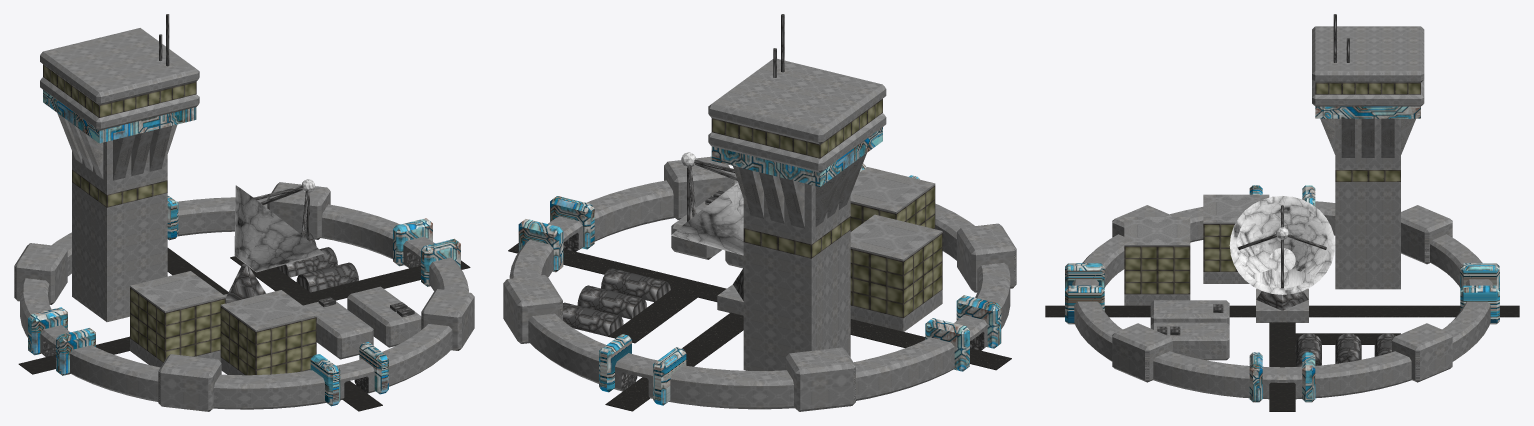
Rendered from CommandCenter.fbx.
The picture shows the model from 3 angles, left to right: view 1: azimuth 30°, elevation 25°; view 2: azimuth 150°, elevation 25°; view 3: azimuth 270°, elevation 25°; orthographic projection. The views are drawn at different scales.
Visible parts, largest first — view 1: outer-wall, tower.005, tower-windows.001, tower.001, tower.003, sat-dish, crenelation.003, tower.004, road.001, tower.002, building-roof.001, building-roof (+25 smaller); view 2: outer-wall, tower.005, tower-windows.001, tower.003, road.001, crenelation.002, sat-dish, crenelation.003, building-roof.001, crenelation, tower-windows.002, tower-stripe (+24 smaller); view 3: outer-wall, sat-dish, tower.005, tower-windows.001, road, tower.001, crenelation, crenelation.001, tower.004, crenelation.002, road.001, building-roof (+25 smaller).
Boxes of the visible parts, <box> form: outer-wall: <box>20,197,468,409</box>; tower.005: <box>72,182,167,321</box>; tower-windows.001: <box>40,28,199,105</box>; tower.001: <box>220,306,316,375</box>; tower.003: <box>130,287,225,362</box>; sat-dish: <box>234,185,323,272</box>; crenelation.003: <box>158,354,221,411</box>; tower.004: <box>347,286,421,347</box>; road.001: <box>18,260,470,374</box>; tower.002: <box>303,301,373,359</box>; building-roof.001: <box>130,271,225,312</box>; building-roof: <box>220,290,316,331</box>; outer-wall: <box>509,173,1010,409</box>; tower.005: <box>743,230,850,370</box>; tower-windows.001: <box>708,58,886,144</box>; tower.003: <box>850,233,942,318</box>; road.001: <box>508,243,1011,370</box>; crenelation.002: <box>785,347,855,411</box>; sat-dish: <box>671,182,743,255</box>; crenelation.003: <box>957,223,1016,292</box>; building-roof.001: <box>850,214,942,261</box>; crenelation: <box>503,275,562,343</box>; tower-windows.002: <box>708,113,886,172</box>; tower-stripe: <box>711,127,882,186</box>; outer-wall: <box>1072,201,1492,399</box>; sat-dish: <box>1229,196,1335,294</box>; tower.005: <box>1335,182,1400,289</box>; tower-windows.001: <box>1312,26,1424,82</box>; road: <box>1045,305,1519,317</box>; tower.001: <box>1124,246,1190,294</box>; crenelation: <box>1392,323,1452,382</box>; crenelation.001: <box>1112,323,1172,382</box>; tower.004: <box>1150,322,1229,360</box>; crenelation.002: <box>1401,205,1452,264</box>; road.001: <box>1269,322,1295,411</box>; building-roof: <box>1124,217,1190,246</box>.
Bounding box in the file's own units: 3600 × 2300 × 3600.
Materials: 11 (11 with a texture image).
